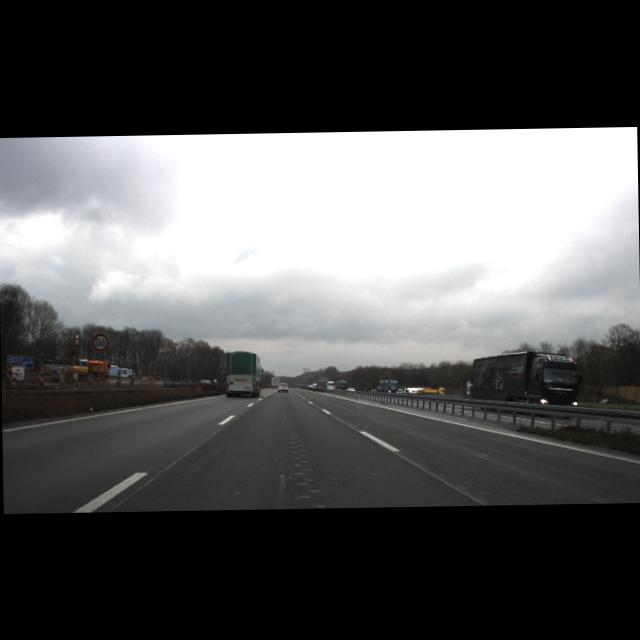prohibitory: (92, 332, 110, 352)
